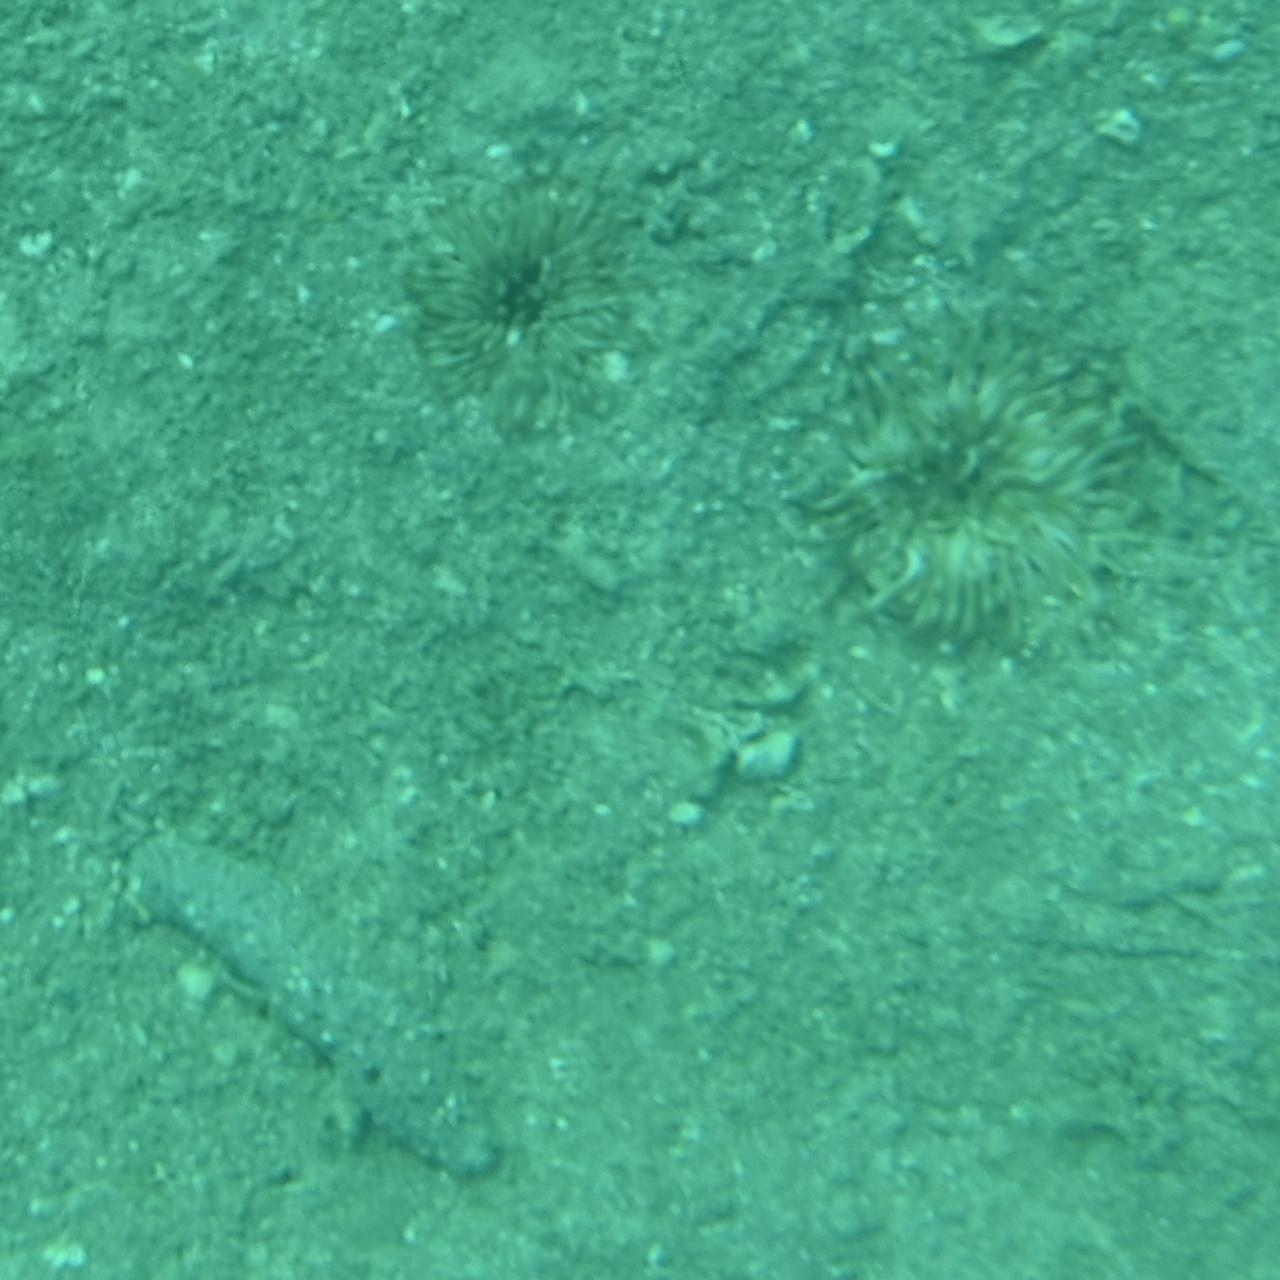Condylactis aurantiaca: (772, 304, 1155, 690), (397, 120, 661, 417)
Holothuria tubulosa: (125, 832, 508, 1193)
